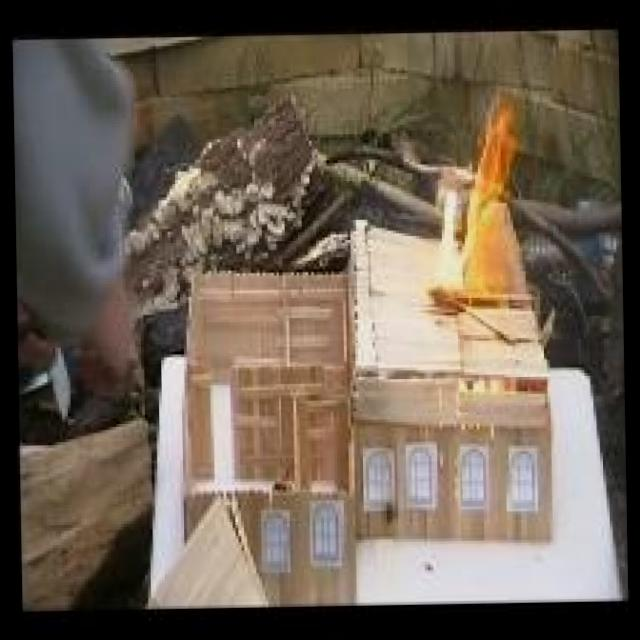fire: (425, 123, 540, 302)
